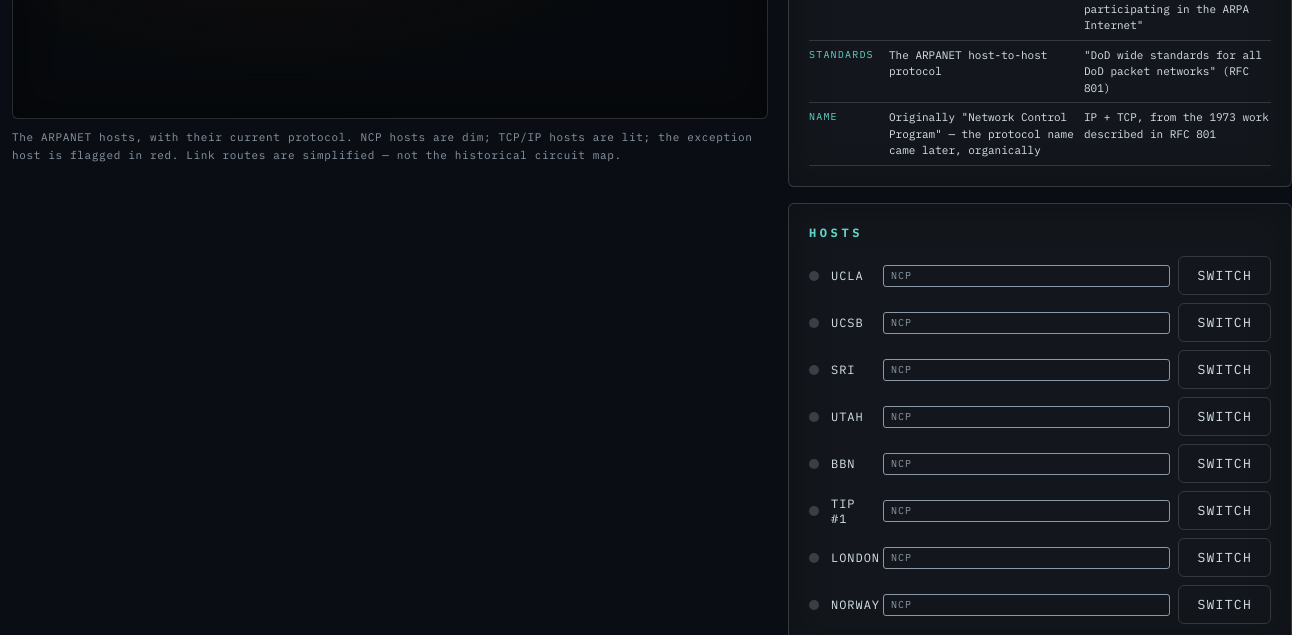
Scenario: Tcpip1983Scene › refuses a cross-protocol send with a PROTOCOL MISMATCH
(page scrolled)
// Switch only UCLA to TCP/IP — default send is UCLA → SRI, now mixed.
Click the button with aria-label "switch ucla to tcp/ip". click: (1225, 276)
box: [1178,256,1271,295]
(page scrolled)
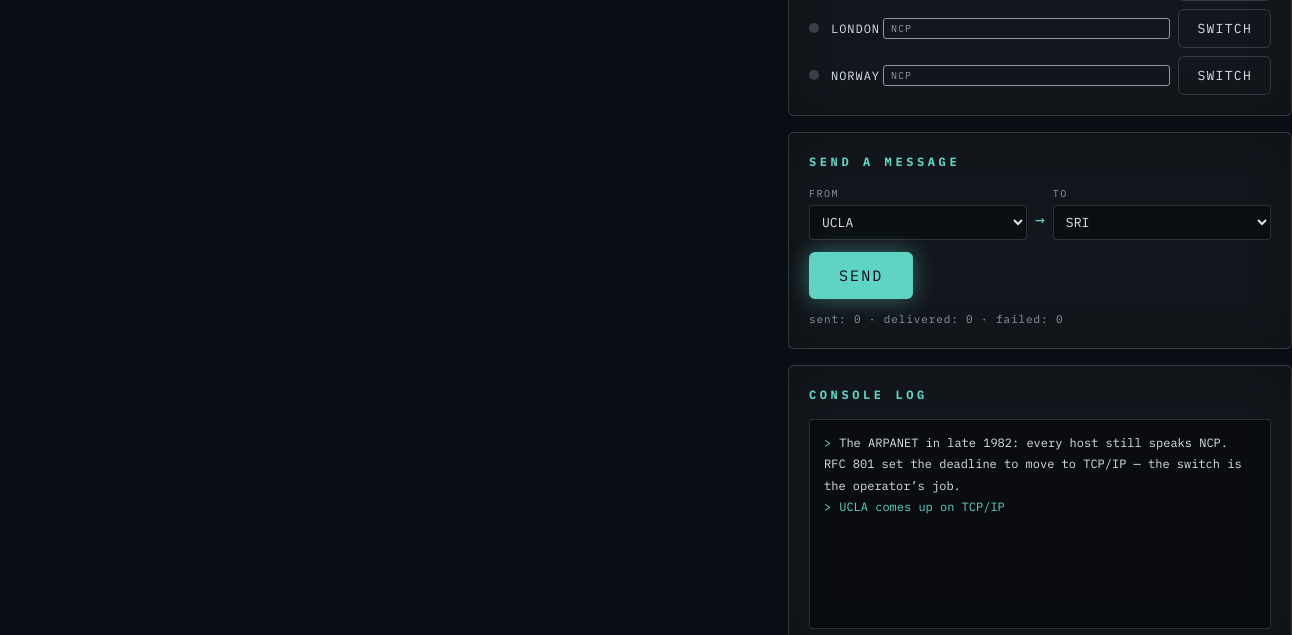
Click the button "SEND". click: (861, 276)
box: [809,252,913,299]
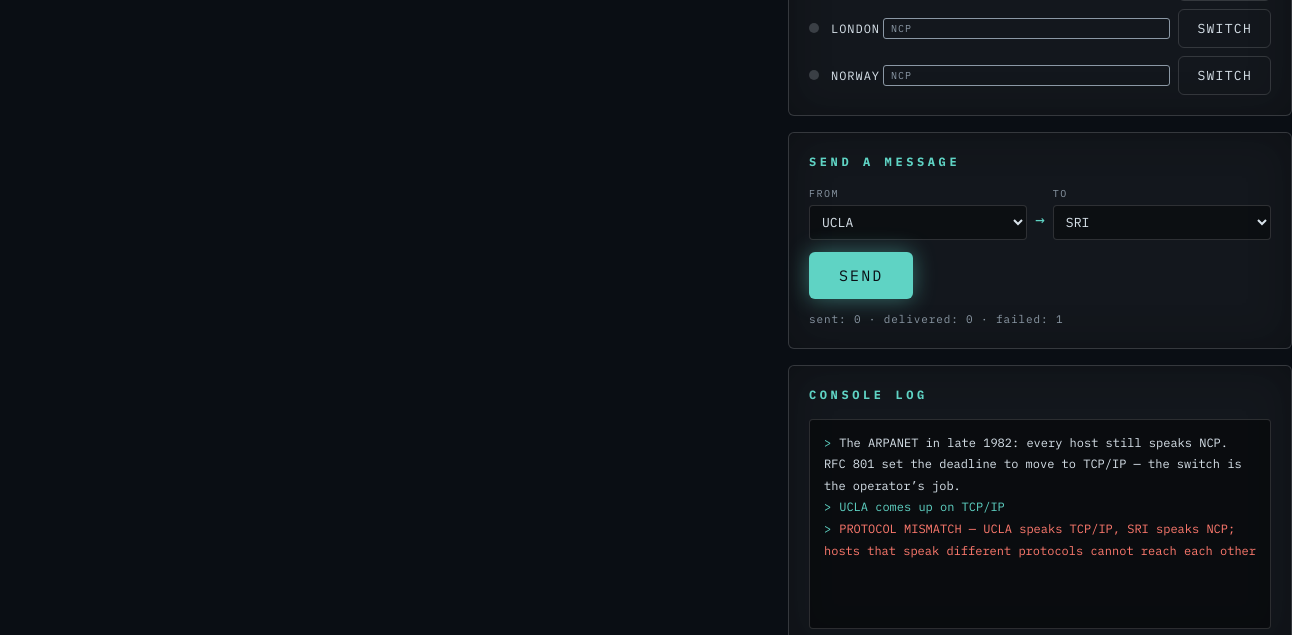
Result: the text "PROTOCOL MISMATCH — UCLA speaks TCP/IP, SRI speaks NCP" is shown at [824,521,1256,558]
Result: the text "sent: 0 · delivered: 0 · failed: 1" is shown at [809,312,1063,326]
